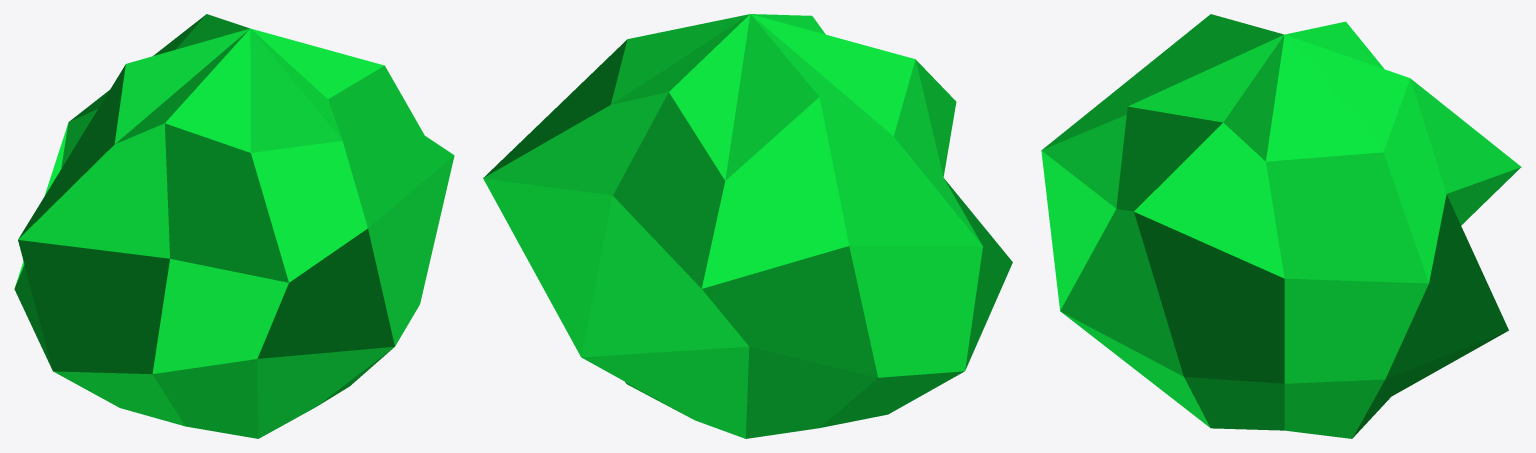
File: bush.gltf
The picture shows the model from 3 angles, left to right: view 1: azimuth 30°, elevation 25°; view 2: azimuth 150°, elevation 25°; view 3: azimuth 270°, elevation 25°; orthographic projection. The views are drawn at different scales.
Parts seen in each view (by area): view 1: Bush; view 2: Bush; view 3: Bush.
Boxes of the visible parts, box(x1,y1,x2,y2) form: Bush: box(14, 14, 454, 438); Bush: box(483, 14, 1012, 438); Bush: box(1041, 14, 1521, 438).
Size of the model in its own units: 0.9849 by 0.8 by 0.9602.
Materials: 1 (1 with a texture image).
